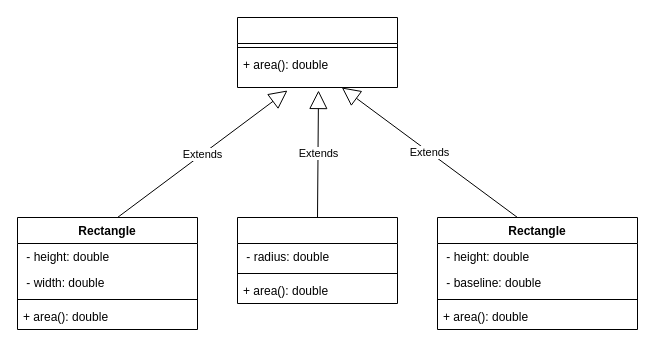
This 655x350 diagram has some shape labels left out. The box of each missing label's shape, as (x1, y1, x2, y2) in pixels:
Circle: (236, 216, 398, 304)
Shape: (236, 16, 398, 88)
